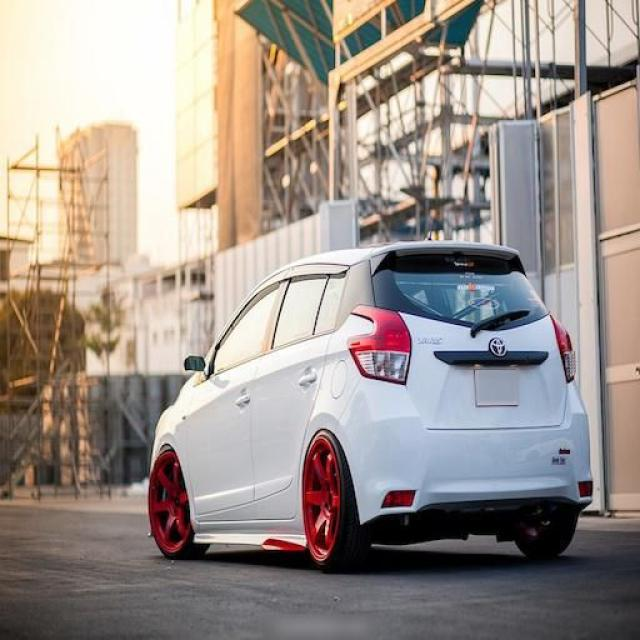back_bumper: (338, 374, 593, 529)
back_glass: (369, 253, 551, 332)
back_left_door: (250, 263, 350, 499)
back_left_light: (349, 304, 411, 384)
back_right_light: (550, 311, 577, 382)
front_left_door: (192, 271, 286, 516)
left_mirror: (185, 354, 207, 371)
trunk: (400, 310, 569, 428)
wheel: (303, 432, 361, 567), (149, 447, 212, 557), (514, 506, 579, 558)
